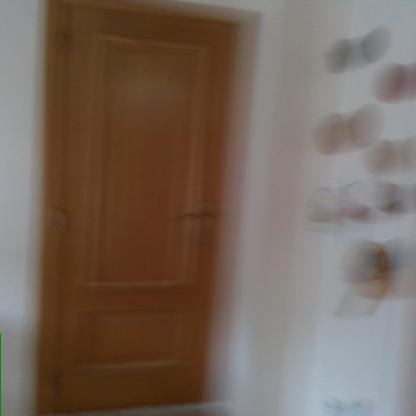closed: (29, 4, 265, 400)
